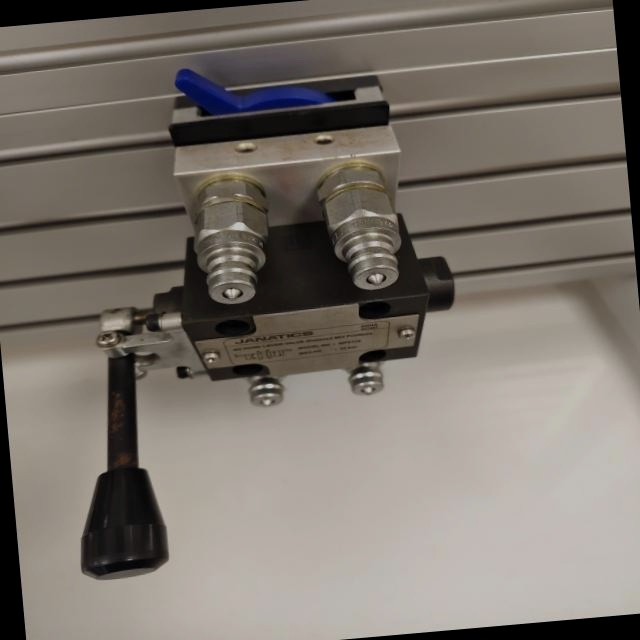4by3 hand lever valve: (38, 45, 487, 587)
